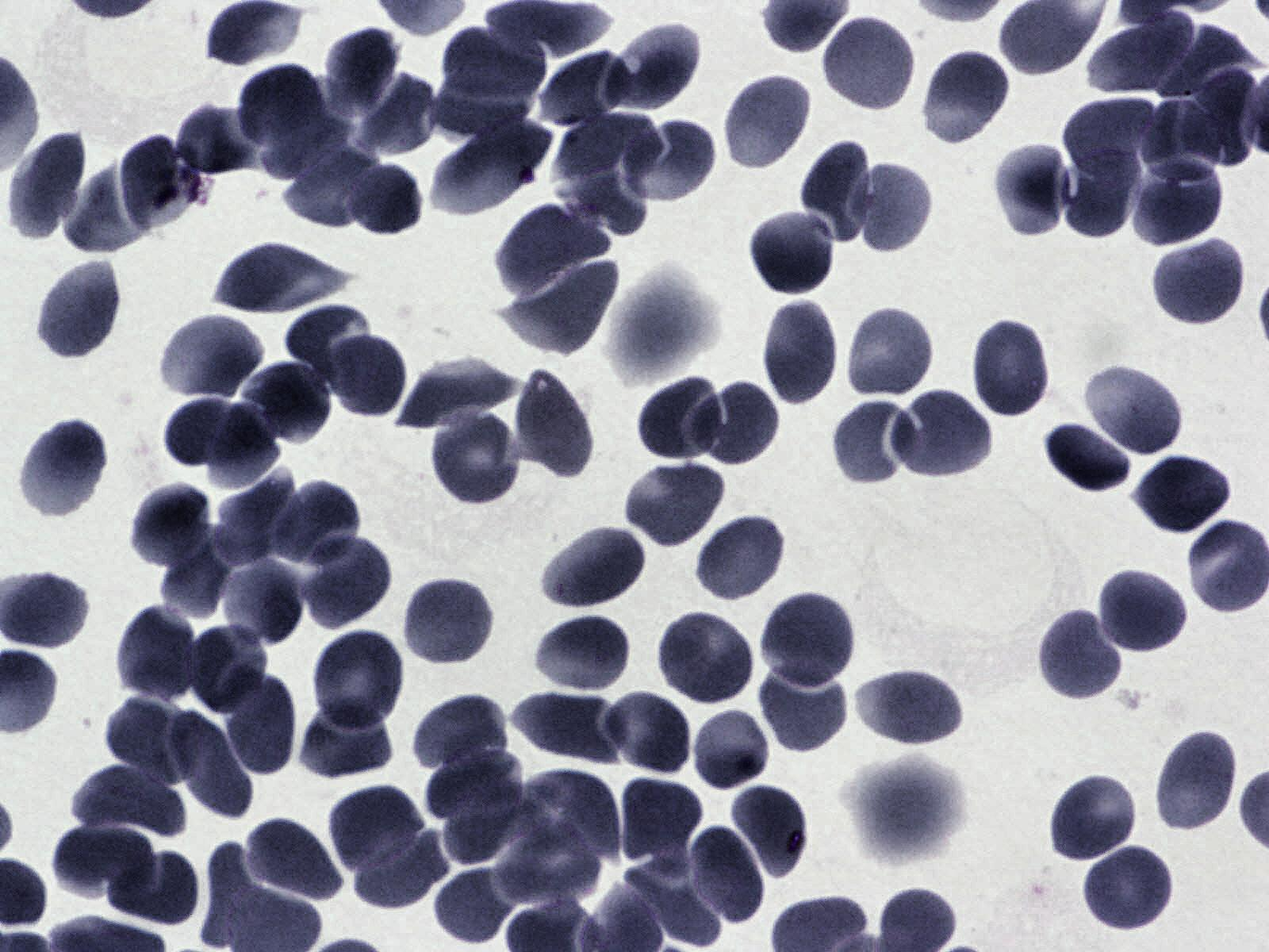Uninfected: (430, 120, 553, 217), (504, 258, 623, 351), (820, 13, 921, 115), (498, 201, 608, 294), (657, 608, 757, 708), (293, 531, 396, 628), (762, 587, 857, 692), (893, 385, 998, 480), (626, 847, 723, 949), (427, 407, 523, 509), (920, 45, 1016, 147), (719, 71, 813, 175), (855, 667, 971, 751), (1179, 511, 1268, 620), (1087, 360, 1183, 461), (163, 315, 267, 408), (284, 131, 381, 230), (511, 370, 597, 481), (1149, 236, 1250, 330), (216, 244, 351, 313), (399, 576, 499, 669), (171, 711, 255, 821), (309, 633, 402, 732), (542, 524, 649, 610), (534, 611, 638, 699), (1045, 773, 1141, 867), (58, 163, 152, 259), (844, 304, 937, 401), (396, 355, 523, 426), (762, 298, 845, 406), (1035, 607, 1126, 705), (6, 129, 87, 239), (343, 66, 443, 155), (1136, 452, 1238, 539), (845, 155, 933, 255), (624, 459, 725, 546), (968, 317, 1052, 421), (117, 603, 203, 704), (498, 816, 600, 901), (1095, 566, 1191, 656), (615, 773, 704, 870), (118, 131, 199, 237), (529, 770, 626, 858), (1089, 11, 1193, 93), (1144, 24, 1258, 98), (270, 476, 368, 562), (244, 816, 343, 901), (211, 468, 294, 569), (323, 23, 402, 129), (637, 373, 730, 463), (39, 259, 120, 362), (1155, 732, 1236, 835), (354, 831, 453, 914), (602, 690, 692, 781), (748, 209, 840, 298), (608, 25, 702, 112), (558, 111, 665, 187), (72, 767, 184, 839), (104, 693, 194, 781), (189, 623, 269, 721), (993, 139, 1072, 238), (132, 482, 217, 574), (54, 823, 155, 900), (623, 118, 717, 200), (332, 785, 422, 870), (834, 397, 918, 488), (753, 664, 846, 746), (1133, 155, 1221, 241), (444, 781, 533, 866), (443, 29, 546, 102), (1060, 100, 1156, 178), (428, 859, 511, 949), (240, 363, 334, 442), (1179, 69, 1258, 163), (24, 422, 102, 517), (693, 378, 777, 466), (696, 518, 786, 600), (225, 673, 297, 773), (691, 823, 763, 923), (1065, 139, 1137, 239), (1043, 417, 1135, 495), (1086, 846, 1171, 930), (692, 707, 773, 795), (286, 309, 370, 393), (1142, 100, 1225, 185), (542, 51, 636, 126), (997, 0, 1089, 76), (323, 332, 406, 416), (243, 64, 326, 148), (224, 555, 303, 643), (105, 850, 199, 923), (732, 782, 804, 877), (803, 143, 873, 239), (424, 752, 522, 820), (514, 697, 621, 758), (162, 397, 259, 464), (303, 705, 389, 779), (161, 527, 230, 619), (205, 3, 303, 67), (419, 691, 506, 762), (433, 71, 531, 134), (207, 405, 279, 489), (569, 167, 647, 237), (346, 163, 420, 236), (174, 113, 261, 174)
